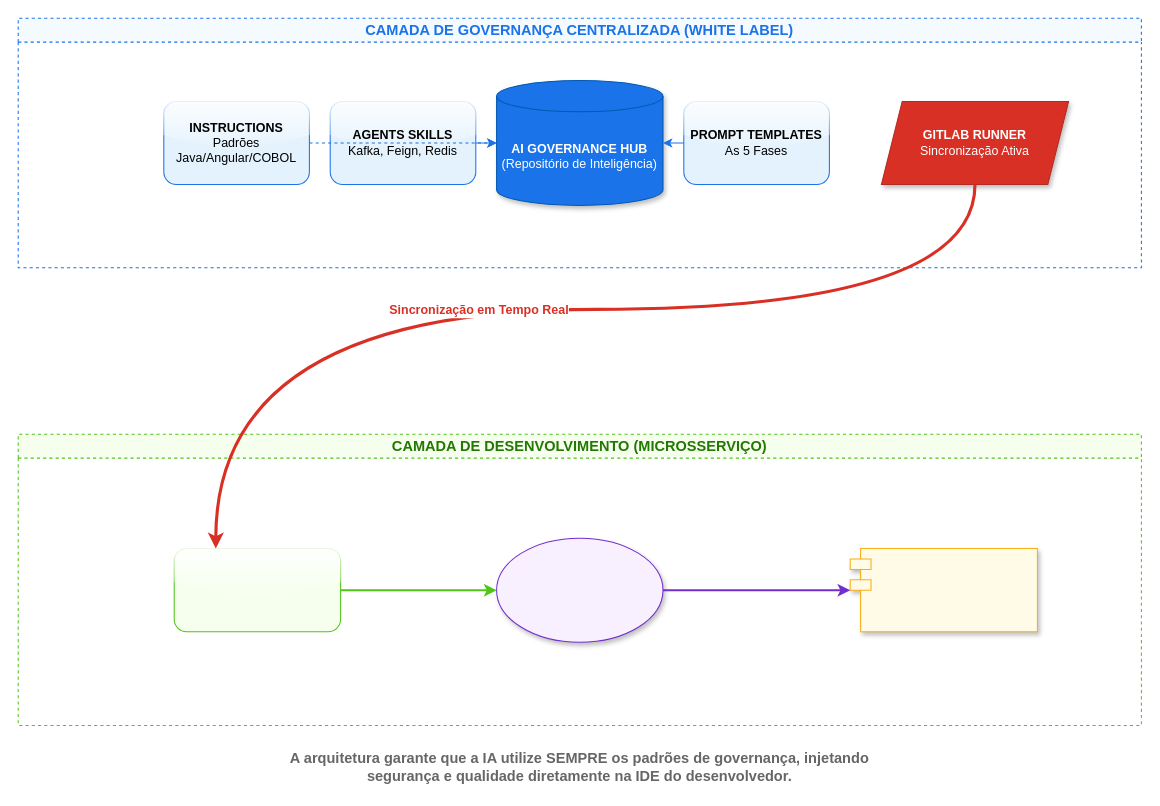
Image size: 1160x806. Some labels were removed from this diagram. Each missing label, with the centre of its shape:
ASSISTENTE DE IA (Cérebro na IDE): (580,591)
PASTA /ai-rules (Regras Conectadas): (257,590)
REPOSITÓRIO DE CÓDIGO (Spring / Angular / COBOL): (944,591)
